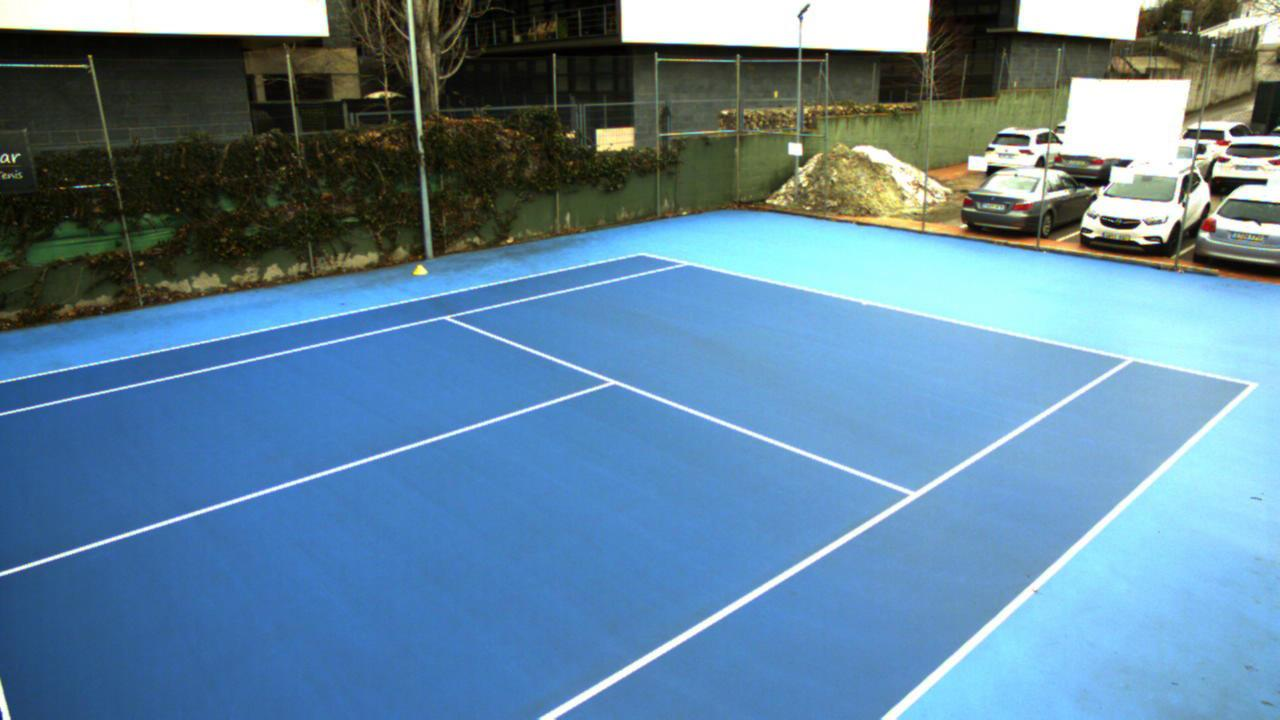cancha_tenis: (0, 262, 1134, 720)
point_f1: (669, 253, 695, 273)
point_f2: (1116, 346, 1141, 372)
point_fc1: (854, 295, 874, 313)
point_i1: (438, 306, 462, 326)
point_i2: (891, 480, 924, 506)
point_ic1: (592, 371, 621, 396)
